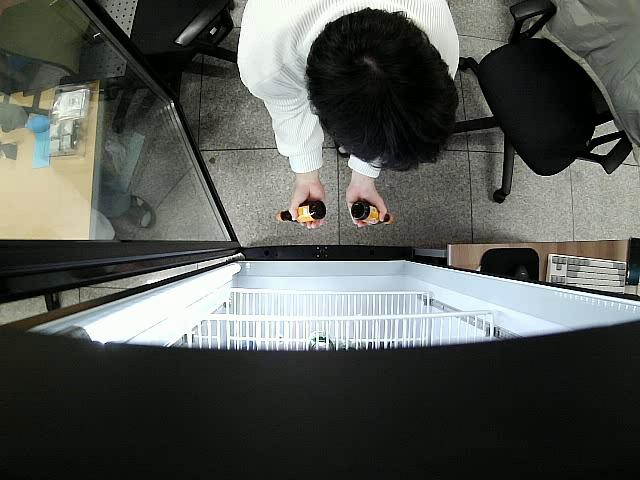00_hand: (344, 183, 387, 230), (288, 185, 326, 231)
17_vita500: (275, 197, 328, 223), (349, 199, 395, 227)
